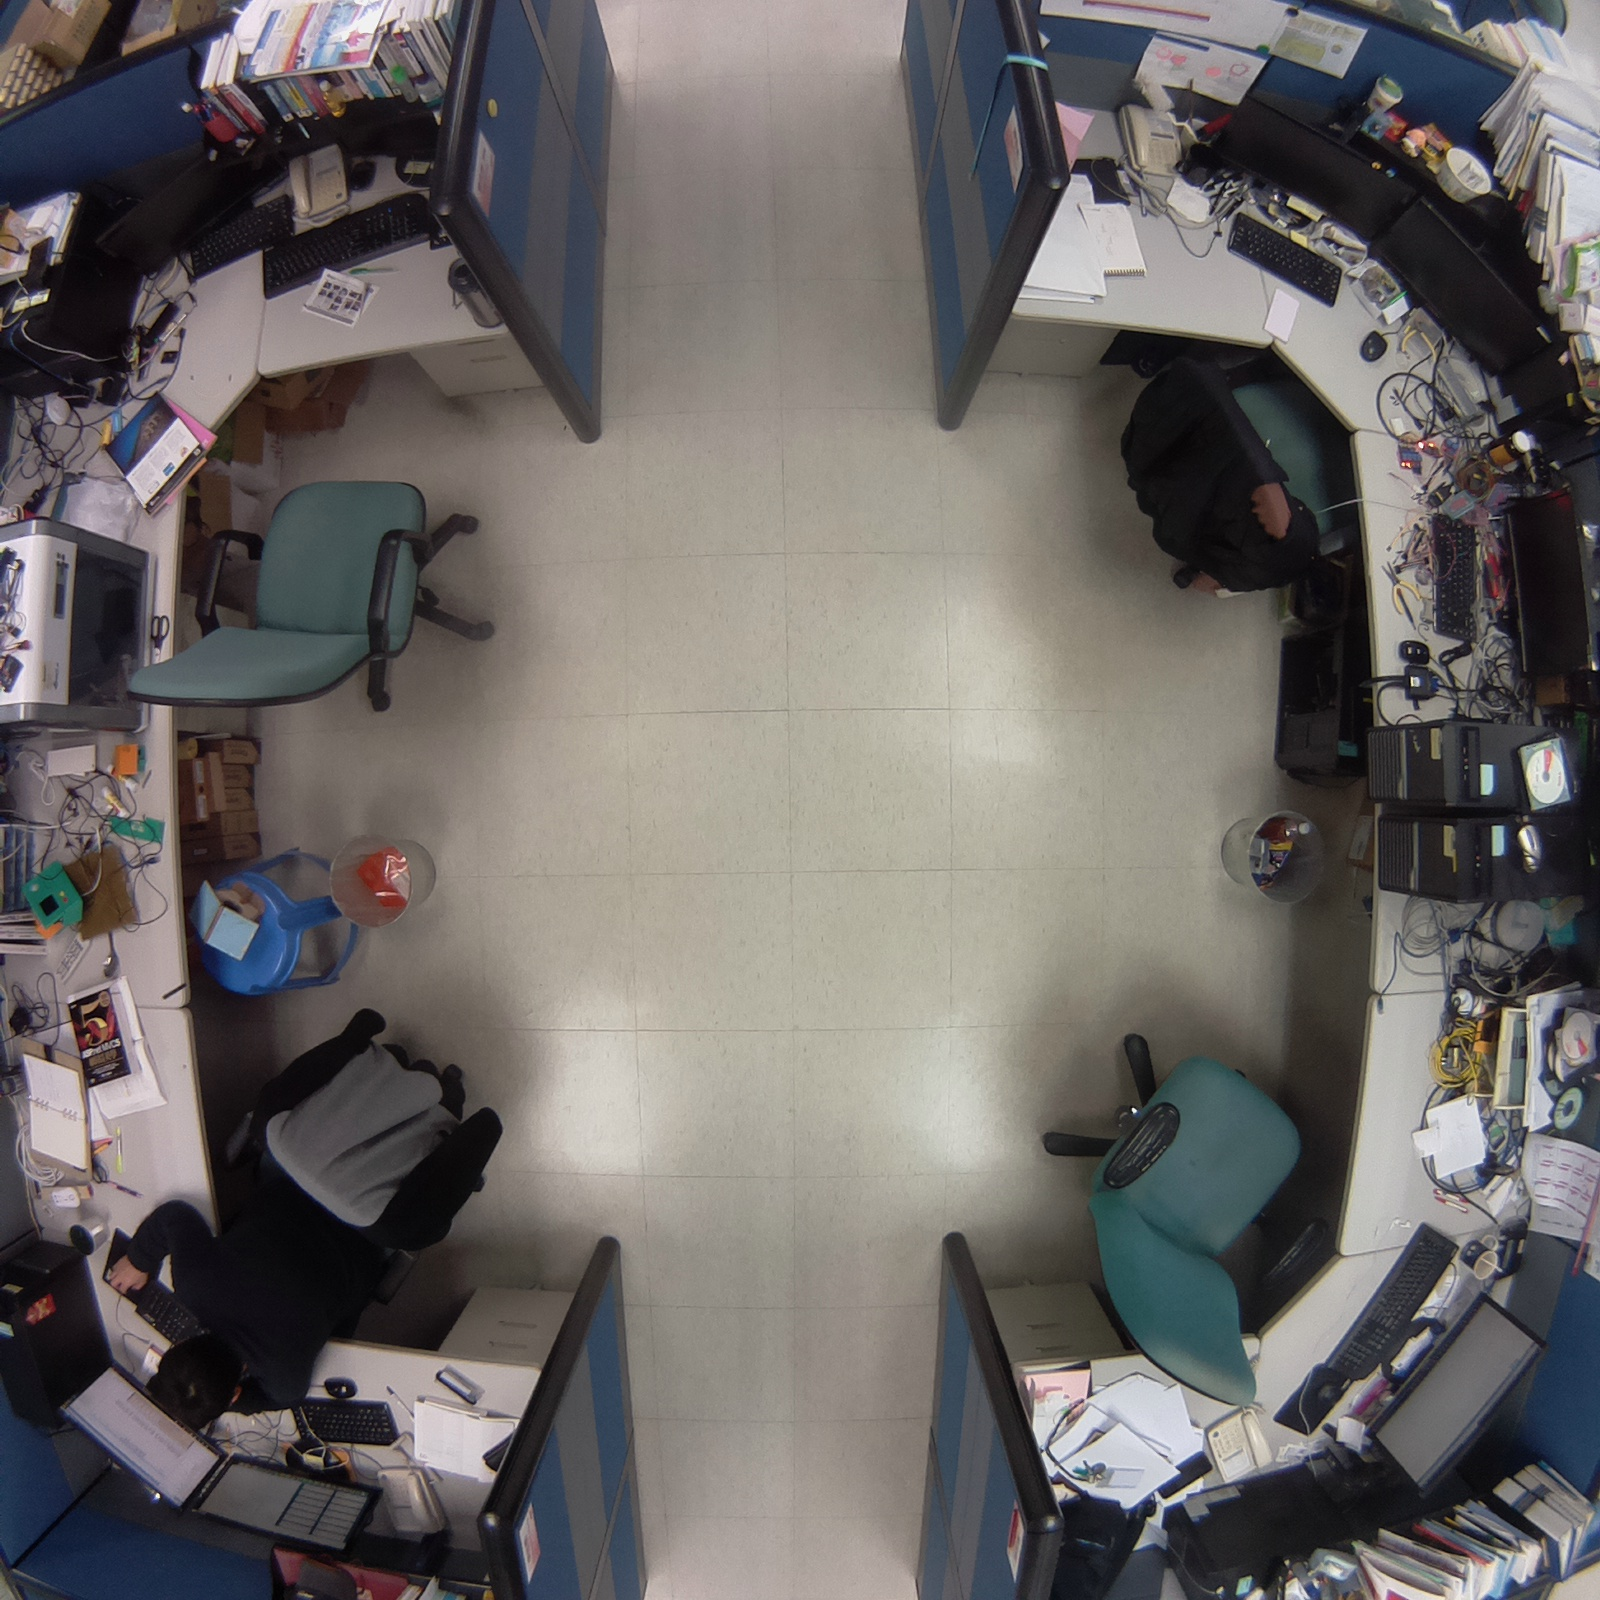chair: (1026, 1012, 1319, 1429), (114, 464, 519, 738), (1106, 319, 1388, 612)
sitting: (84, 1002, 514, 1433)
